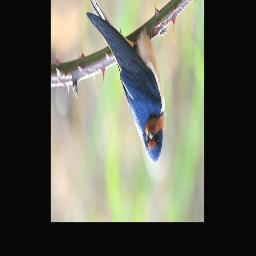Swallow: (72, 0, 166, 164)
